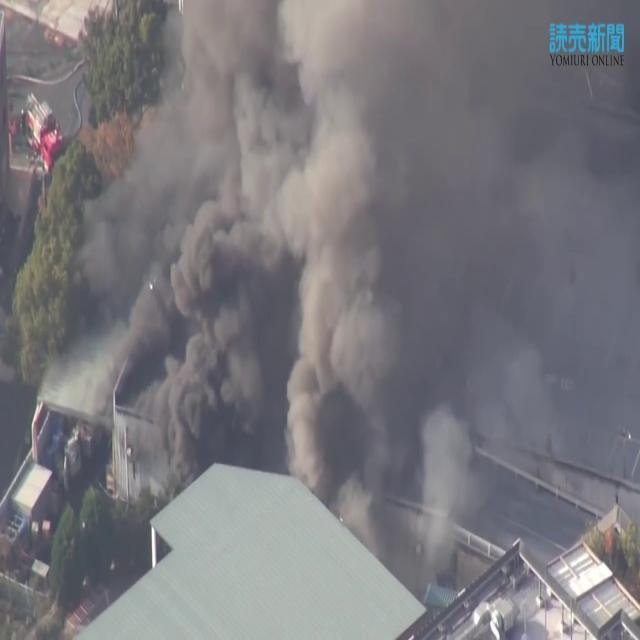Smoke: (282, 0, 640, 570)
